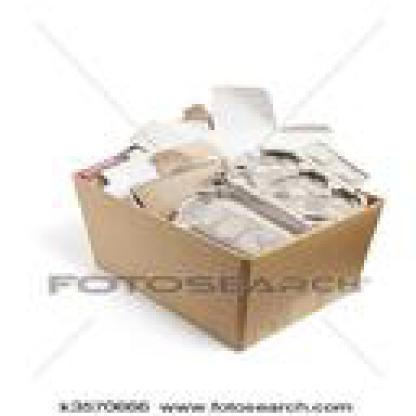CARDBOARD: (71, 130, 380, 344), (218, 140, 364, 234), (172, 179, 312, 260), (126, 153, 228, 221), (146, 136, 228, 178), (208, 81, 273, 127), (94, 146, 146, 188), (136, 130, 178, 156), (176, 98, 204, 126), (276, 124, 322, 134)
